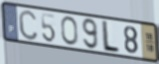5: (40, 11, 57, 43)
8: (123, 25, 140, 55)
9: (81, 18, 99, 51)
C: (17, 8, 40, 42)
L: (102, 20, 121, 55)
O: (60, 15, 79, 47)
